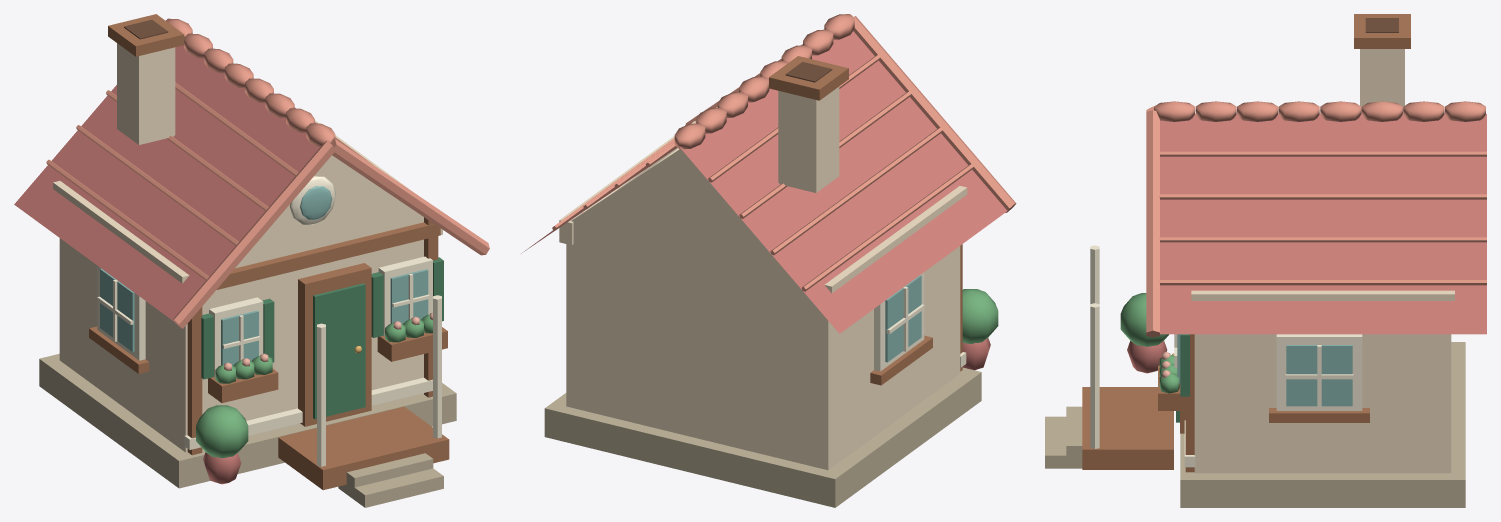
File: house.glb
3 views of the same model, side by side, from view 1: azimuth 30°, elevation 25°; view 2: azimuth 150°, elevation 25°; view 3: azimuth 270°, elevation 25° (orthographic). The views are drawn at different scales.
Visible parts, largest first — view 1: roof-slope--1, plaster-walls, stone-foundation, porch-deck, gable-front, sage-door, chimney, door-frame, front-crossbeam, roof-fascia--1, roof-fascia-1, pot-shrub (+36 smaller); view 2: plaster-walls, roof-slope--1, stone-foundation, gable-back, chimney, roof-fascia--1, roof-to-wall-connection--1, side-window-glass--1, chimney-cap, pot-shrub, tile-row--1-3, tile-row--1-4 (+13 smaller); view 3: roof-slope-1, plaster-walls, stone-foundation, porch-deck, side-window-glass-1, roof-fascia-1, roof-to-wall-connection-1, side-window-frame-1, chimney, tile-row-1-1, tile-row-1-2, tile-row-1-3 (+21 smaller).
Boxes of the visible parts, x1,y1,x2,y2 form: roof-slope--1: (14, 45, 319, 321); plaster-walls: (59, 219, 423, 452); stone-foundation: (39, 353, 456, 488); porch-deck: (278, 406, 449, 490); gable-front: (237, 155, 423, 265); sage-door: (313, 283, 365, 419); chimney: (117, 43, 175, 144); door-frame: (298, 263, 371, 426); front-crossbeam: (216, 222, 440, 289); roof-fascia--1: (173, 141, 335, 328); roof-fascia-1: (331, 139, 489, 255); pot-shrub: (196, 405, 248, 458); plaster-walls: (566, 148, 960, 470); roof-slope--1: (679, 31, 1007, 333); stone-foundation: (544, 367, 981, 507); gable-back: (571, 149, 791, 277); chimney: (778, 86, 839, 192); roof-fascia--1: (853, 16, 1016, 212); roof-to-wall-connection--1: (824, 186, 967, 293); side-window-glass--1: (885, 275, 921, 362); chimney-cap: (769, 56, 848, 100); pot-shrub: (962, 289, 998, 343); tile-row--1-3: (770, 127, 942, 255); tile-row--1-4: (801, 164, 973, 291); roof-slope-1: (1160, 114, 1486, 334); plaster-walls: (1194, 334, 1451, 473); stone-foundation: (1180, 342, 1465, 507); porch-deck: (1082, 387, 1173, 469); side-window-glass-1: (1286, 345, 1352, 406); roof-fascia-1: (1146, 110, 1159, 337); roof-to-wall-connection-1: (1191, 290, 1454, 300); side-window-frame-1: (1276, 334, 1362, 410); chimney: (1360, 49, 1404, 113); tile-row-1-1: (1159, 151, 1486, 156); tile-row-1-2: (1159, 194, 1486, 199); tile-row-1-3: (1159, 237, 1486, 242).
Size of the model in its own units: 3.12 by 3.51 by 3.72.
